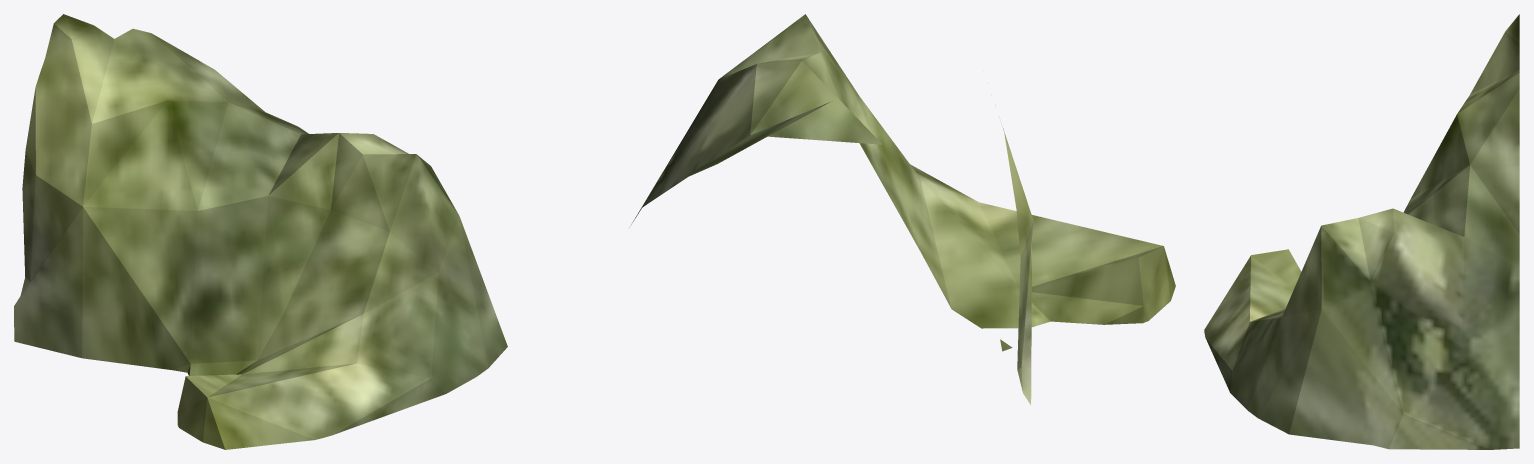
3 renders of one model, left to right at view 1: azimuth 30°, elevation 25°; view 2: azimuth 150°, elevation 25°; view 3: azimuth 270°, elevation 25°, orthographic. The views are drawn at different scales.
Size of the model in its own units: 0.8722 by 0.6568 by 0.6638.
Materials: 1 (1 with a texture image).
